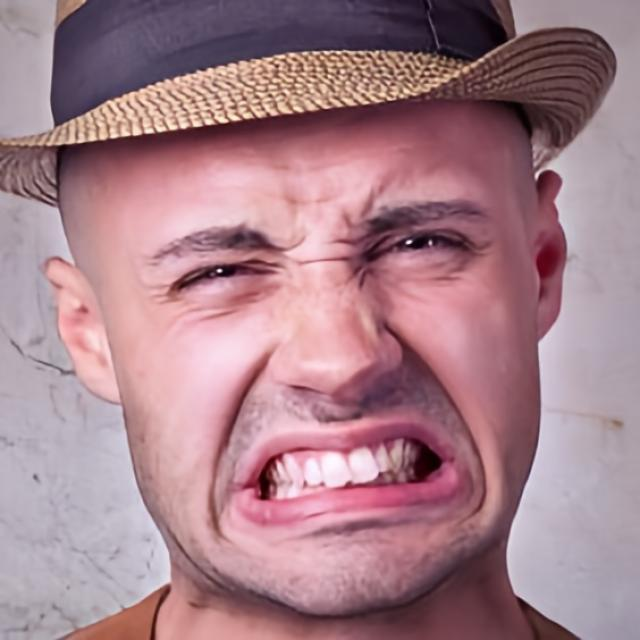disgust: (56, 95, 544, 616)
